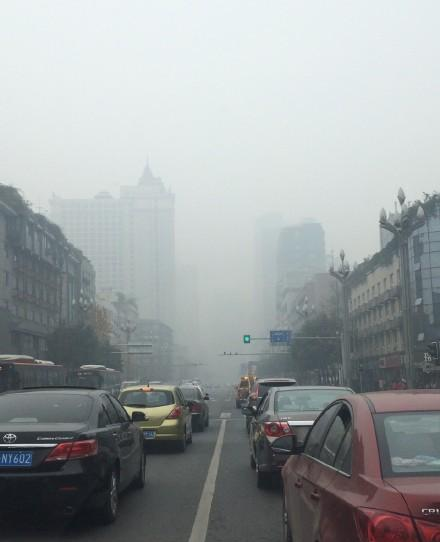bus: (1, 352, 67, 417), (62, 363, 124, 407)
car: (269, 389, 440, 542), (1, 387, 150, 519), (239, 384, 361, 488), (114, 383, 193, 455), (242, 378, 299, 434), (161, 384, 210, 432)
